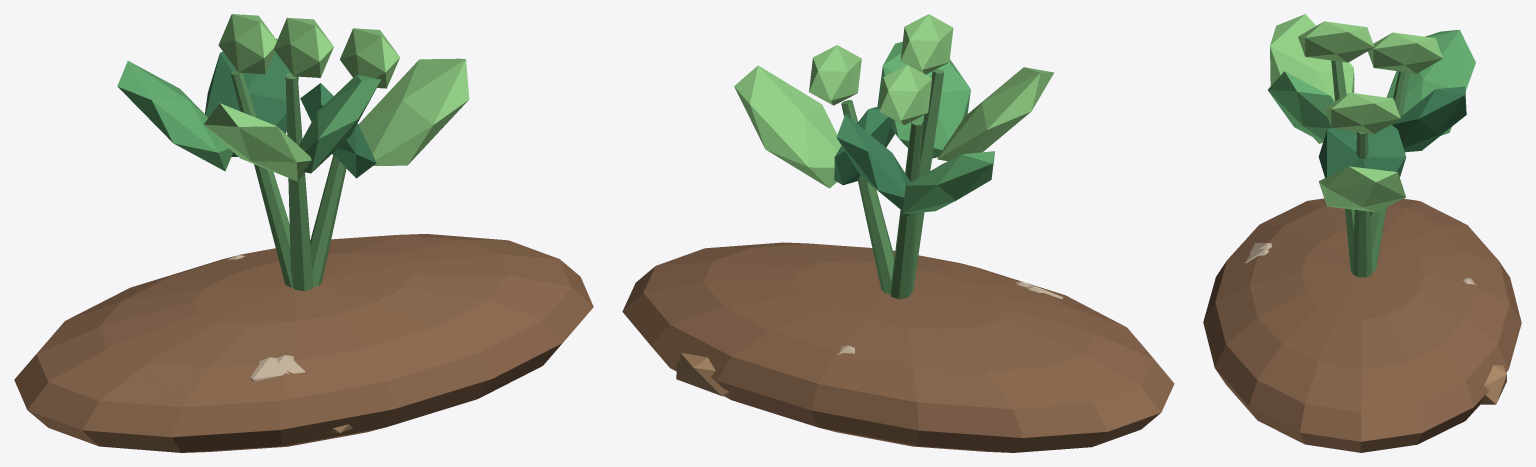
Rendered from (1)basil.fbx.
3 views of the same model, side by side, from view 1: azimuth 30°, elevation 25°; view 2: azimuth 150°, elevation 25°; view 3: azimuth 270°, elevation 25° (orthographic). The views are drawn at different scales.
Visible parts, largest first — view 1: Basil_Level_1; view 2: Basil_Level_1; view 3: Basil_Level_1.
Part boxes in pixels (x1=…): Basil_Level_1: x1=14, y1=14, x2=593, y2=452; Basil_Level_1: x1=622, y1=14, x2=1174, y2=452; Basil_Level_1: x1=1203, y1=14, x2=1521, y2=452.
Bounding box in the file's own units: 282 × 193 × 159.
